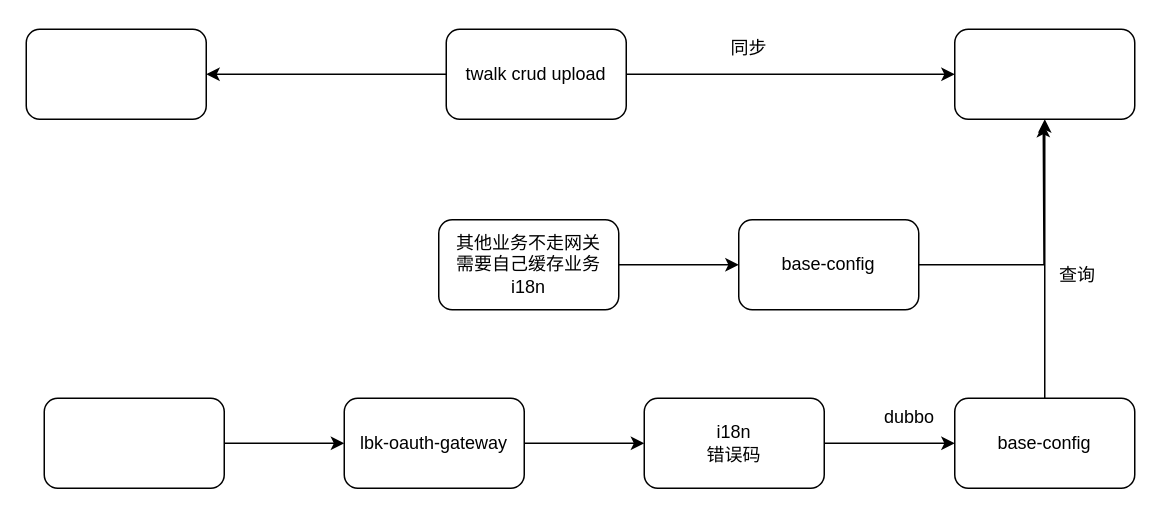
The diagram is 1161 pixels wide and 515 high, and some of its shapes have lost their labels. Each missing label, with the box of its shape:
i18n redis 缓存: (953, 28, 1135, 119)
mysql 新库 config库 新表: (25, 28, 206, 119)
web application: (43, 397, 224, 488)
